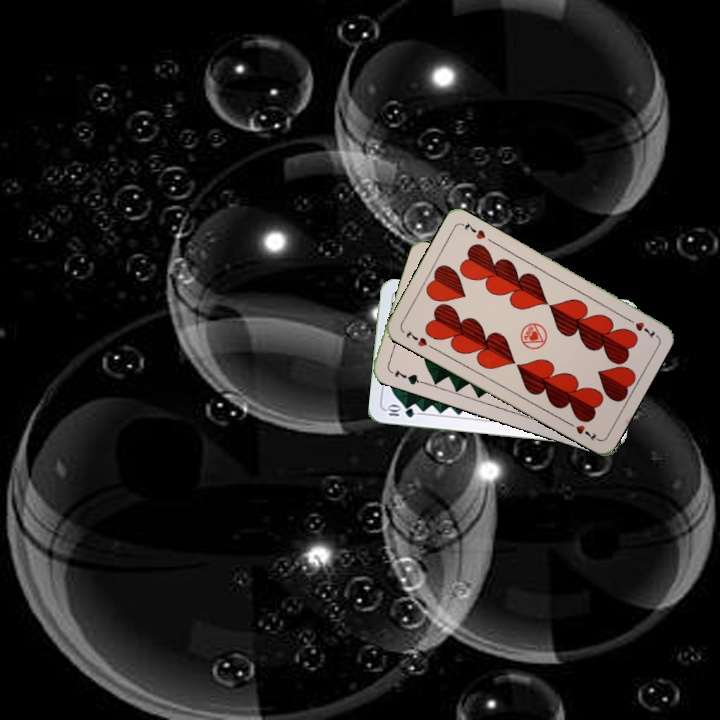G10: (383, 403, 417, 420)
G7: (386, 365, 425, 387)
H7: (622, 313, 659, 340), (402, 327, 436, 352)
